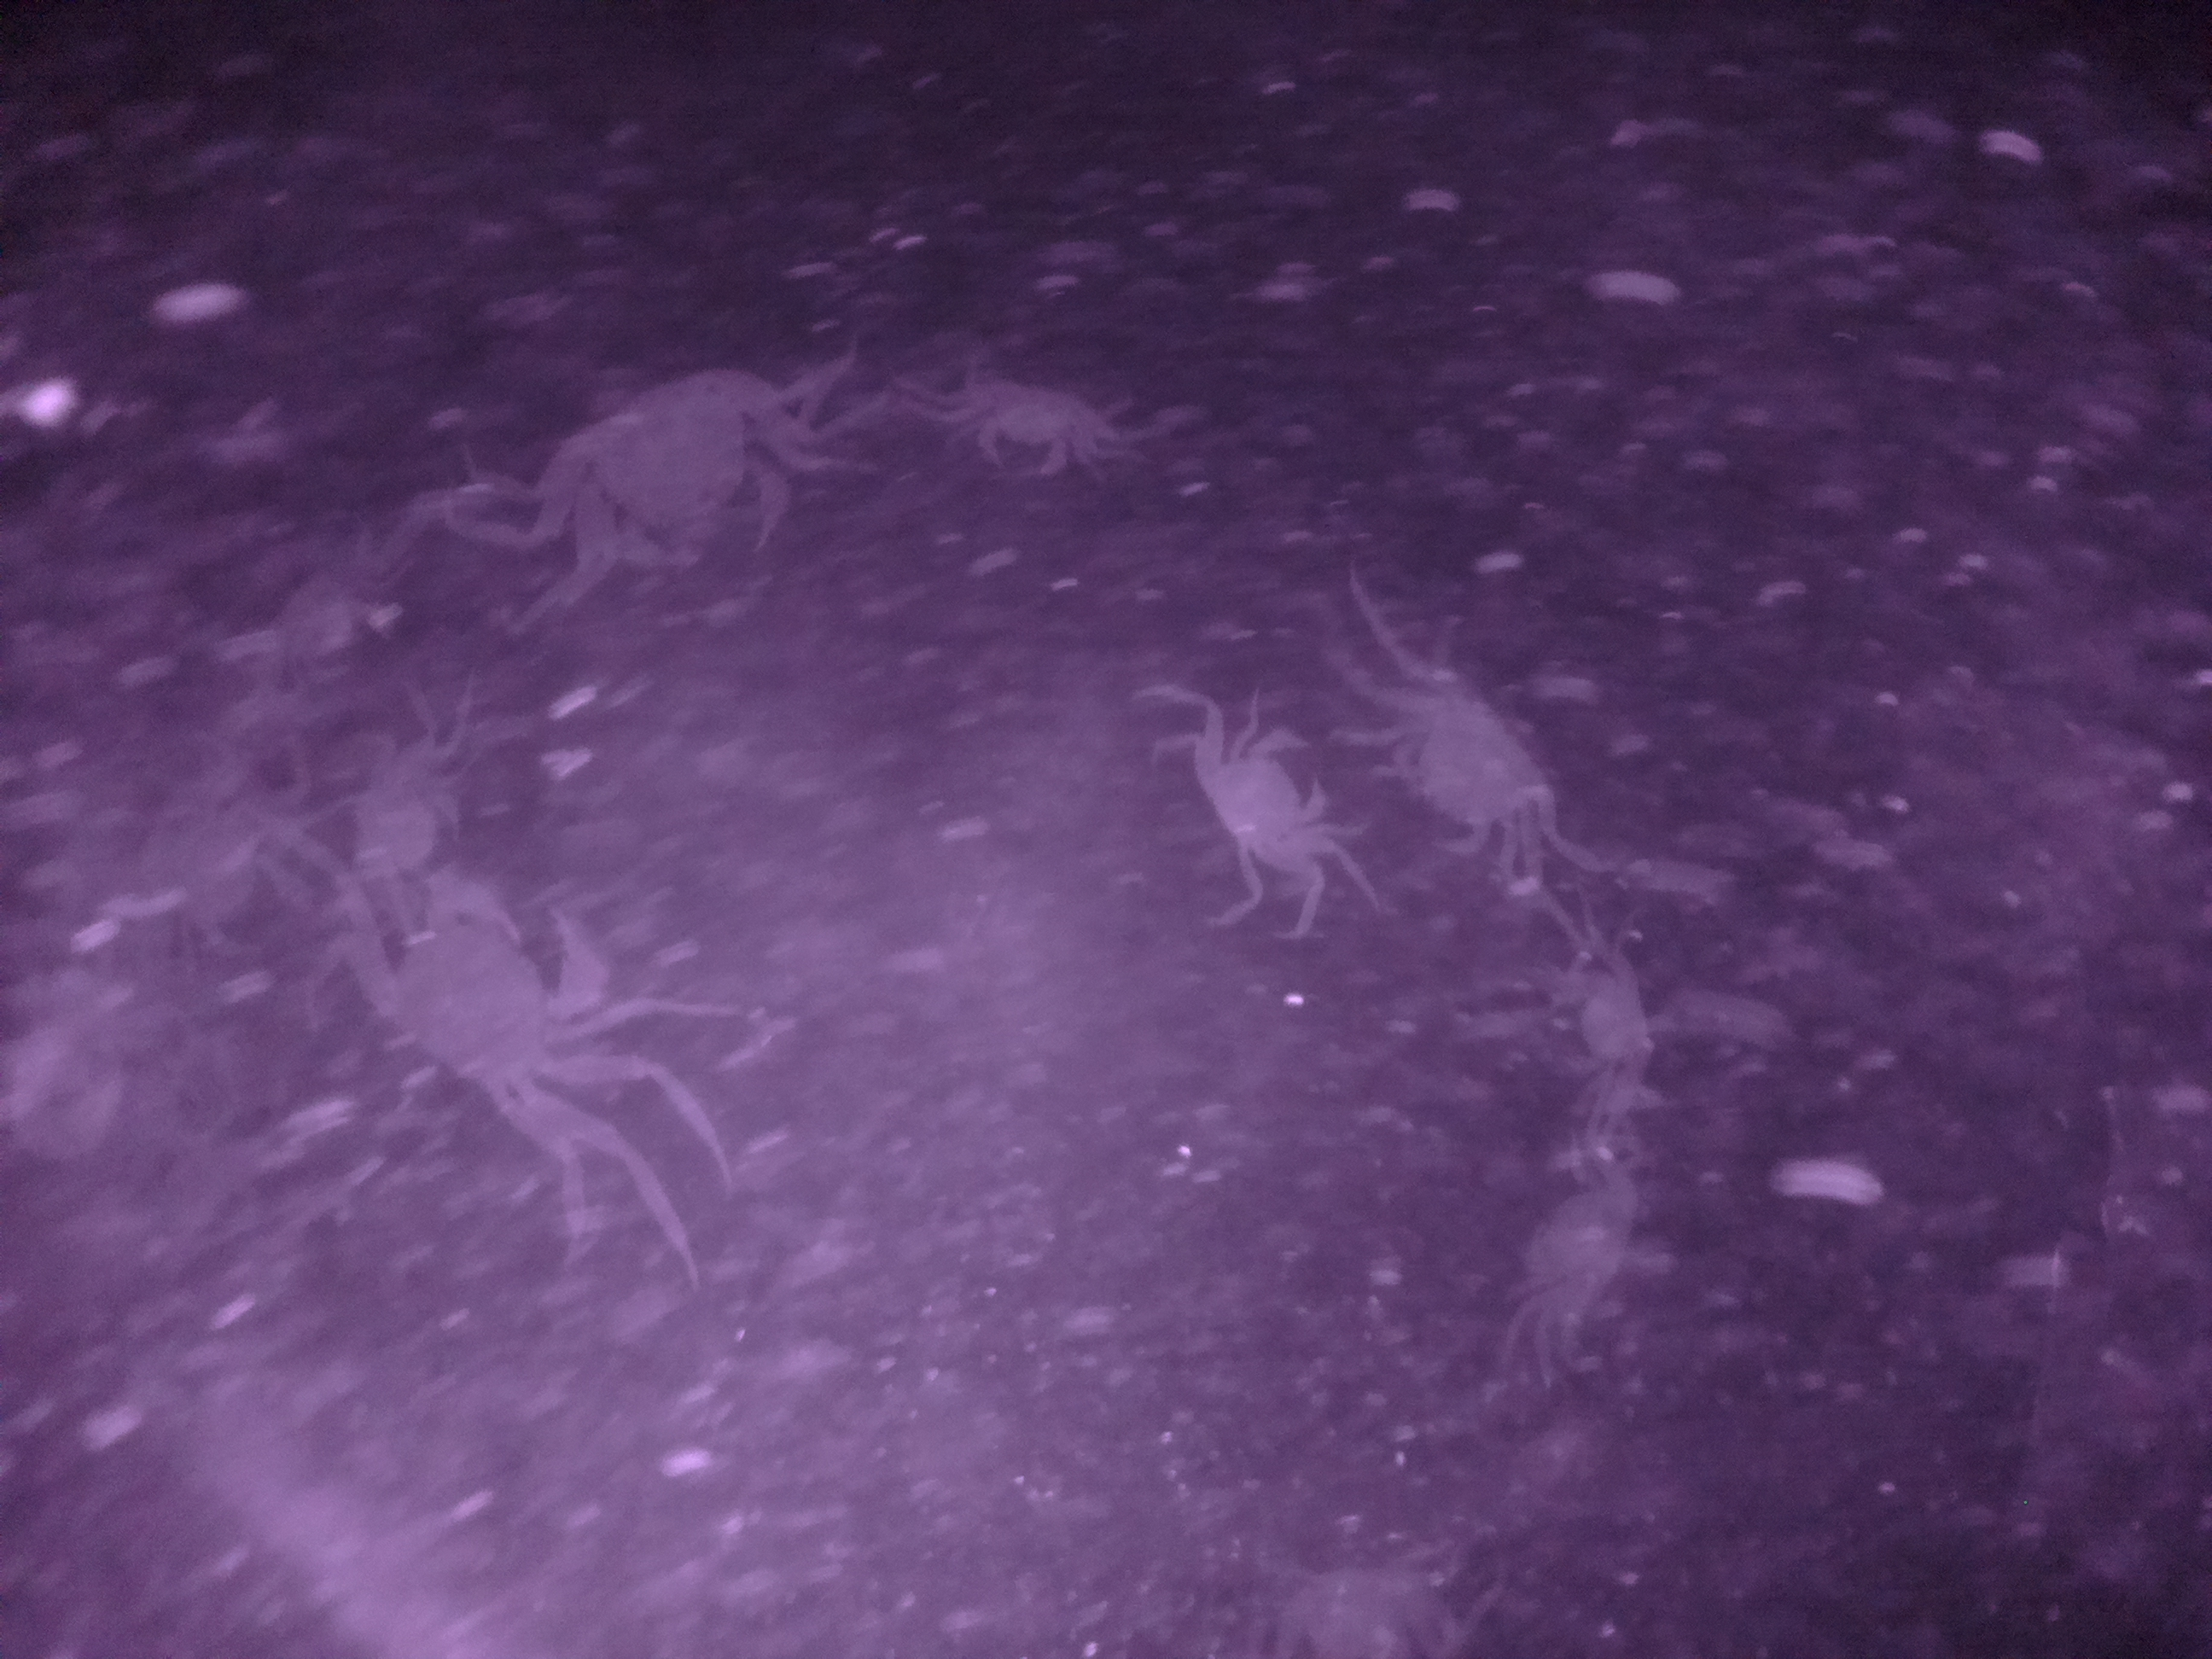Crab: (556, 359, 833, 610), (1369, 662, 1580, 873), (1170, 716, 1332, 908), (954, 361, 1109, 490), (1534, 955, 1660, 1096)
